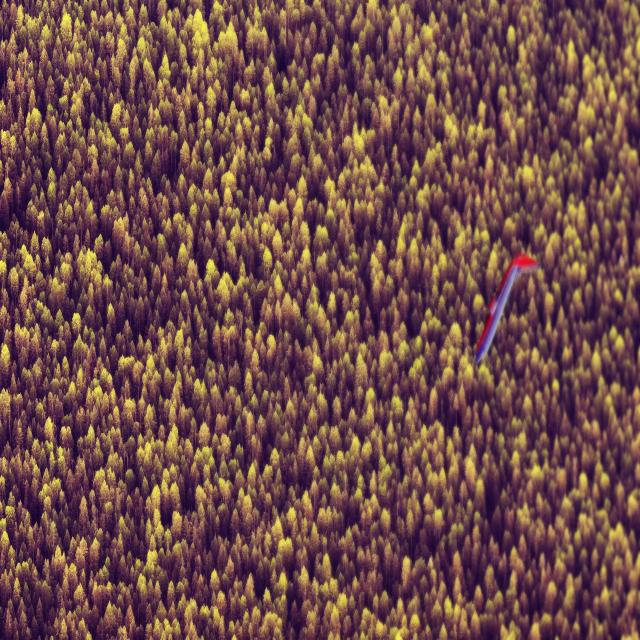airplane: (474, 252, 539, 366)
